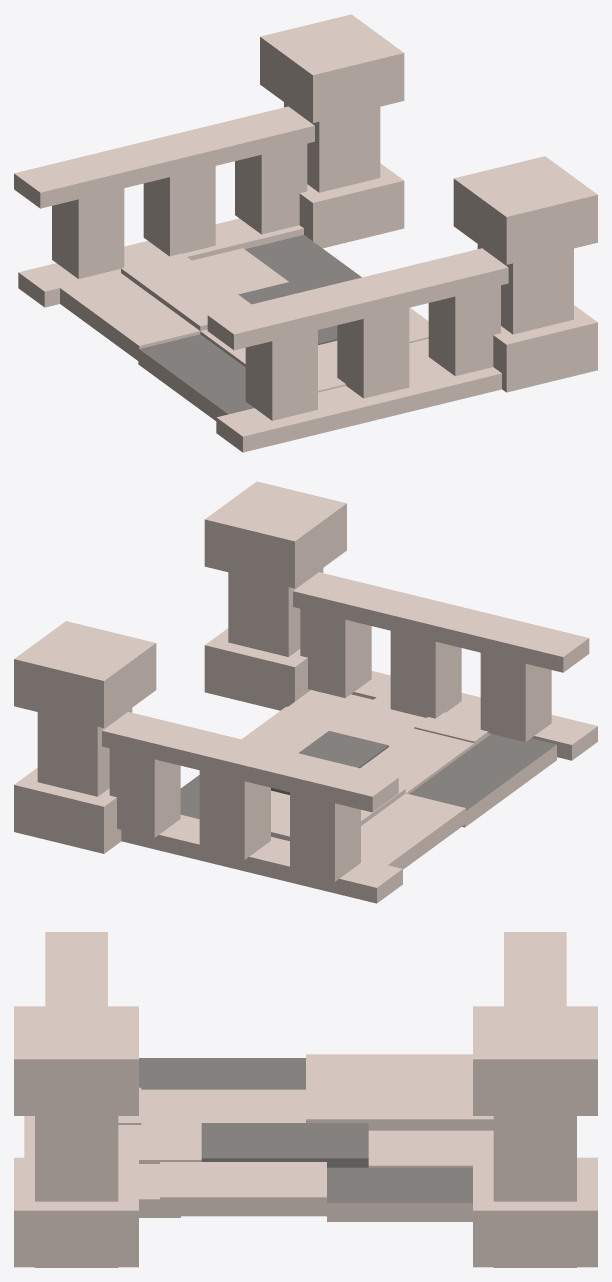
File: bridge_pillars_b.gltf
3 views of the same model, one above another, from view 1: azimuth 30°, elevation 25°; view 2: azimuth 150°, elevation 25°; view 3: azimuth 270°, elevation 25° (orthographic). The views are drawn at different scales.
Parts seen in each view (by area): view 1: bridge_rail, pilars_side_a, rubble_8, rubble_7, rubble_9, bridge_rubble1, rubble_4, rubble_3, rubble_5, rubble_11; view 2: bridge_rail, pilars_side_a, rubble_7, rubble_8, rubble_6, rubble_2, rubble_5, rubble_3, rubble_11, rubble_10, bridge_rubble1, rubble_9 (+1 smaller); view 3: pilars_side_a, bridge_rail, rubble_2, bridge_rubble1, rubble_9, rubble_3, rubble_6, rubble_7, rubble_8, rubble_4, rubble_5, rubble_11.
Boxes of the visible parts, bbox=[...] form: bridge_rail: bbox=[14, 106, 508, 452]; pilars_side_a: bbox=[260, 14, 597, 392]; rubble_8: bbox=[60, 273, 200, 360]; rubble_7: bbox=[138, 334, 253, 420]; rubble_9: bbox=[121, 253, 251, 330]; bridge_rubble1: bbox=[245, 235, 361, 290]; rubble_4: bbox=[192, 248, 288, 294]; rubble_3: bbox=[238, 280, 337, 345]; rubble_5: bbox=[318, 340, 435, 399]; rubble_11: bbox=[409, 339, 437, 368]; bridge_rail: bbox=[102, 572, 597, 903]; pilars_side_a: bbox=[14, 481, 346, 853]; rubble_7: bbox=[409, 734, 556, 827]; rubble_8: bbox=[357, 793, 465, 871]; rubble_6: bbox=[360, 728, 475, 793]; rubble_2: bbox=[242, 706, 344, 752]; rubble_5: bbox=[331, 687, 425, 746]; rubble_3: bbox=[271, 731, 388, 794]; rubble_11: bbox=[288, 690, 372, 720]; rubble_10: bbox=[414, 712, 490, 745]; bridge_rubble1: bbox=[180, 775, 199, 819]; rubble_9: bbox=[271, 787, 405, 841]; pilars_side_a: bbox=[14, 1006, 597, 1267]; bridge_rail: bbox=[24, 932, 566, 1157]; rubble_2: bbox=[160, 1162, 326, 1216]; bridge_rubble1: bbox=[327, 1167, 472, 1221]; rubble_9: bbox=[306, 1084, 493, 1130]; rubble_3: bbox=[201, 1123, 368, 1167]; rubble_6: bbox=[141, 1089, 305, 1124]; rubble_7: bbox=[139, 1058, 305, 1089]; rubble_8: bbox=[306, 1054, 472, 1083]; rubble_4: bbox=[368, 1130, 493, 1167]; rubble_5: bbox=[118, 1125, 201, 1163]; rubble_11: bbox=[139, 1164, 180, 1217].
Bounding box in the file's own units: 1.44 × 0.7188 × 1.75.
2 materials, 2 textured.
